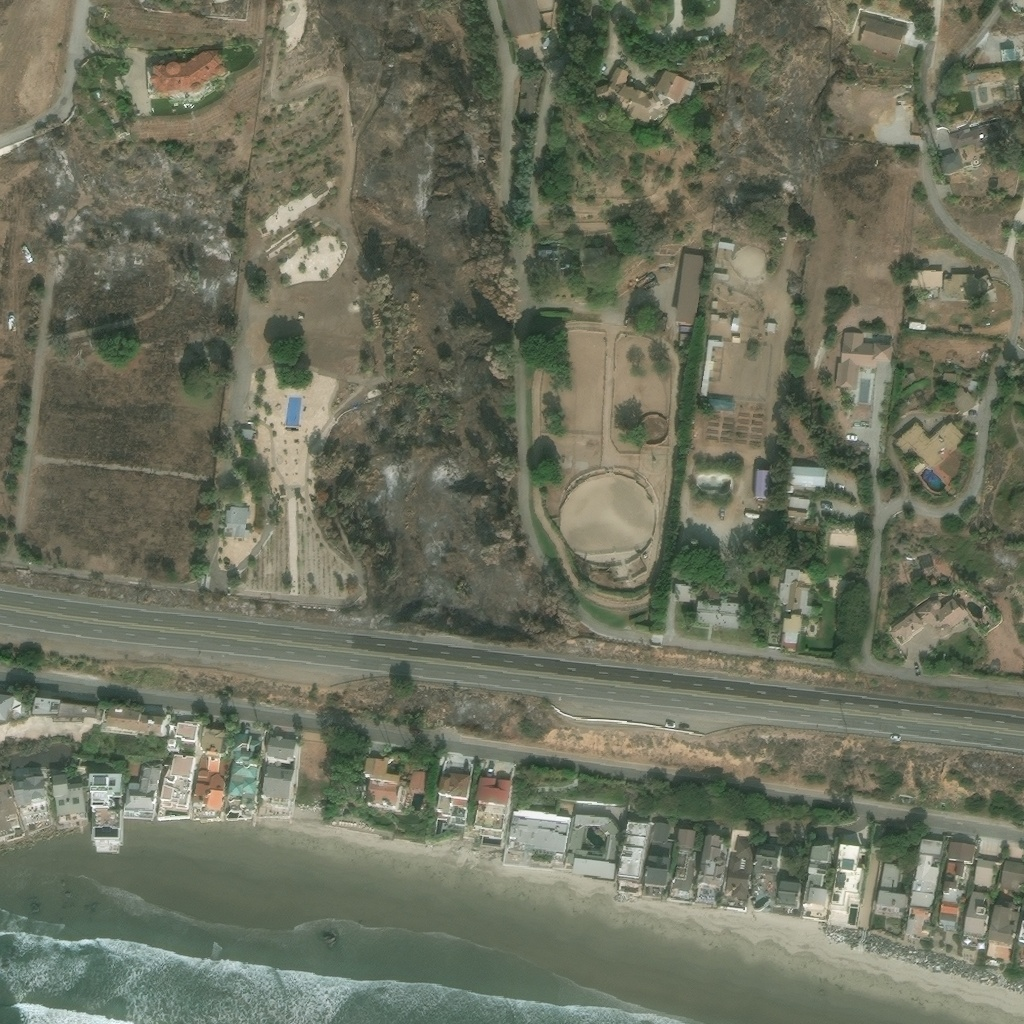0 no-damage: (596, 66, 687, 125), (892, 418, 965, 468), (150, 49, 225, 96), (836, 332, 892, 390), (828, 844, 866, 928), (86, 775, 124, 853), (472, 776, 513, 848), (506, 809, 571, 854), (225, 734, 263, 808), (718, 837, 756, 911), (155, 754, 198, 819), (565, 814, 620, 864), (122, 759, 164, 820), (10, 776, 51, 836), (432, 773, 471, 830), (858, 13, 907, 58), (362, 757, 402, 811), (616, 820, 649, 883), (51, 774, 88, 830), (675, 252, 703, 324), (499, 0, 546, 40), (748, 843, 782, 898), (908, 853, 940, 910), (692, 595, 741, 629), (949, 120, 1003, 150), (261, 765, 298, 808), (697, 836, 726, 890), (669, 850, 700, 900), (192, 756, 225, 798), (942, 274, 991, 302), (0, 782, 22, 842), (941, 860, 971, 904), (700, 339, 722, 397), (962, 891, 989, 938), (888, 610, 924, 645), (264, 736, 301, 770), (988, 905, 1020, 944), (802, 874, 829, 917), (916, 595, 959, 621), (102, 707, 139, 736), (785, 580, 813, 618), (51, 703, 98, 724), (874, 889, 908, 918), (571, 857, 615, 879), (777, 568, 801, 607), (644, 853, 670, 887), (223, 506, 249, 539), (518, 75, 537, 119), (788, 465, 826, 487), (650, 822, 673, 858), (998, 859, 1023, 892), (775, 880, 802, 909), (878, 863, 904, 892), (137, 715, 171, 737), (985, 938, 1012, 964), (806, 846, 831, 874), (170, 720, 199, 744), (946, 841, 976, 864), (952, 386, 977, 413), (200, 726, 225, 753), (779, 847, 803, 875), (972, 858, 994, 888), (780, 616, 801, 645), (938, 152, 963, 176), (30, 698, 60, 717), (675, 828, 696, 853), (753, 469, 770, 499), (918, 836, 942, 856), (407, 770, 428, 792), (535, 244, 558, 262), (707, 397, 734, 412), (919, 270, 942, 287), (785, 507, 808, 524), (205, 789, 222, 811), (0, 695, 13, 723), (938, 912, 958, 930), (786, 495, 809, 510), (673, 583, 692, 599), (939, 902, 960, 915), (902, 916, 915, 936), (207, 756, 220, 774), (1000, 48, 1016, 62), (717, 240, 735, 251), (792, 484, 816, 492), (729, 316, 740, 331), (113, 124, 126, 136), (942, 372, 956, 383), (12, 698, 21, 714), (960, 375, 971, 388), (204, 747, 217, 758), (713, 273, 729, 281), (954, 862, 963, 876), (241, 429, 253, 439), (763, 322, 774, 332), (964, 73, 976, 82), (731, 336, 740, 344), (782, 371, 789, 381), (711, 300, 717, 311), (711, 314, 719, 321), (718, 317, 726, 323), (779, 232, 786, 238)
3 destroyed: (380, 57, 393, 82)
